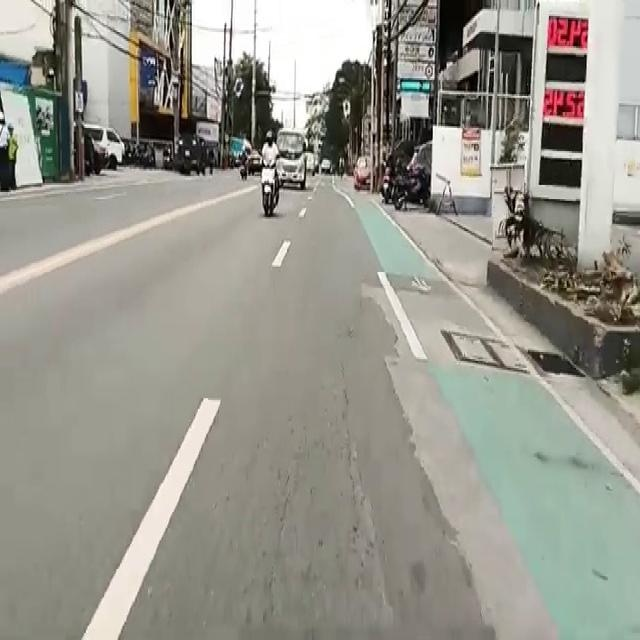motorcycle: (252, 130, 282, 226)
truck: (273, 122, 309, 186)
